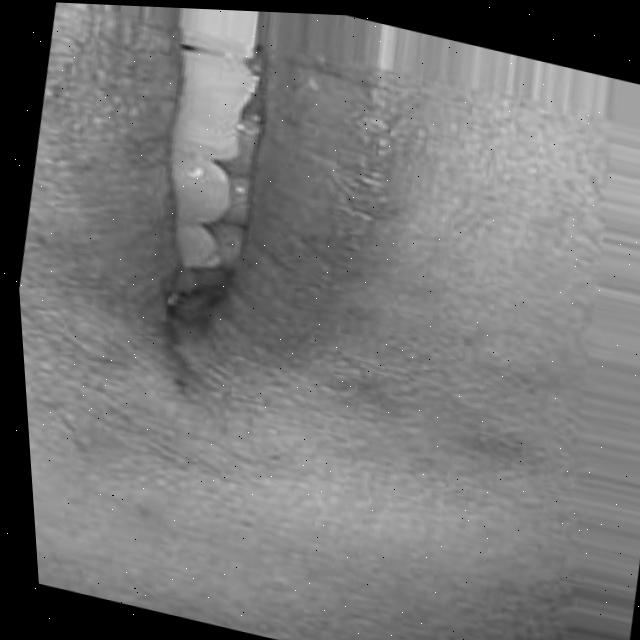Rosacea: (302, 351, 529, 483)
